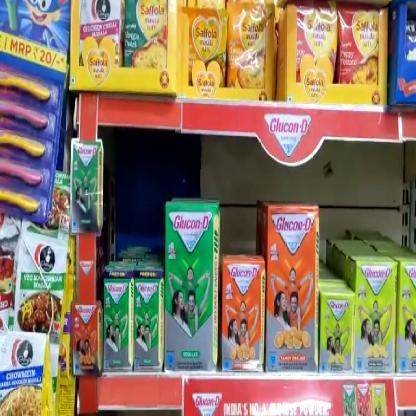Glucon D Nimbu Pani 1-KG: (353, 262, 398, 372)
Glucon D Regular 1-KG: (164, 198, 218, 368)
Glucon D Tangy orange 1-KG: (265, 204, 318, 373)
